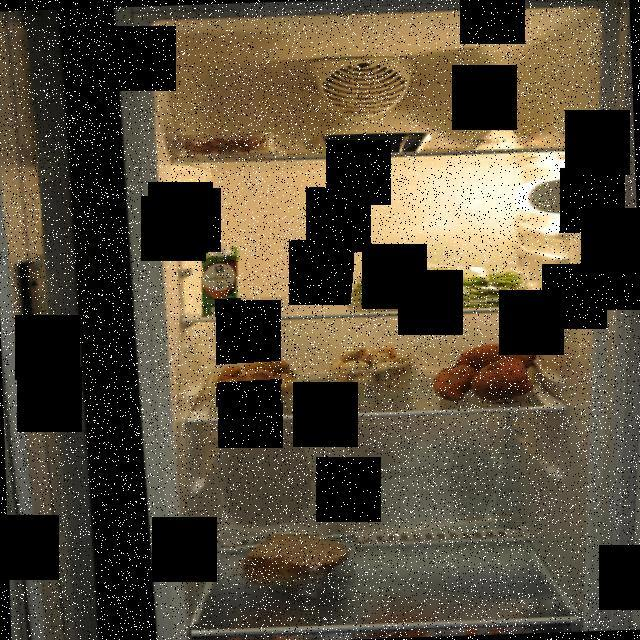bread: (230, 534, 356, 596)
flour: (460, 90, 530, 150)
green_beans: (347, 267, 531, 311)
heavy_cream: (198, 244, 242, 318)
mushrooms: (323, 345, 418, 393)
potato: (212, 354, 300, 407)
shrimp: (183, 136, 281, 160)
sweet_potato: (432, 341, 544, 406)
